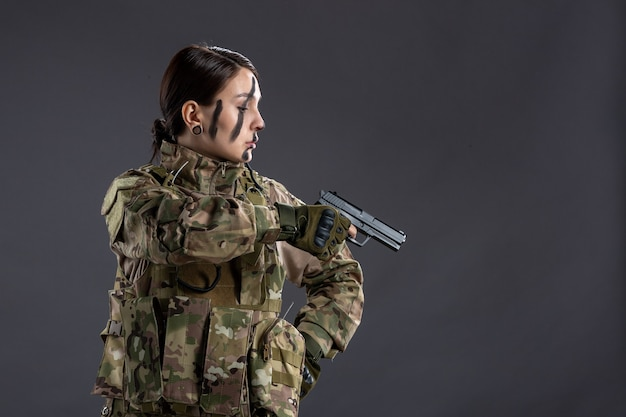gun: (309, 185, 408, 262)
